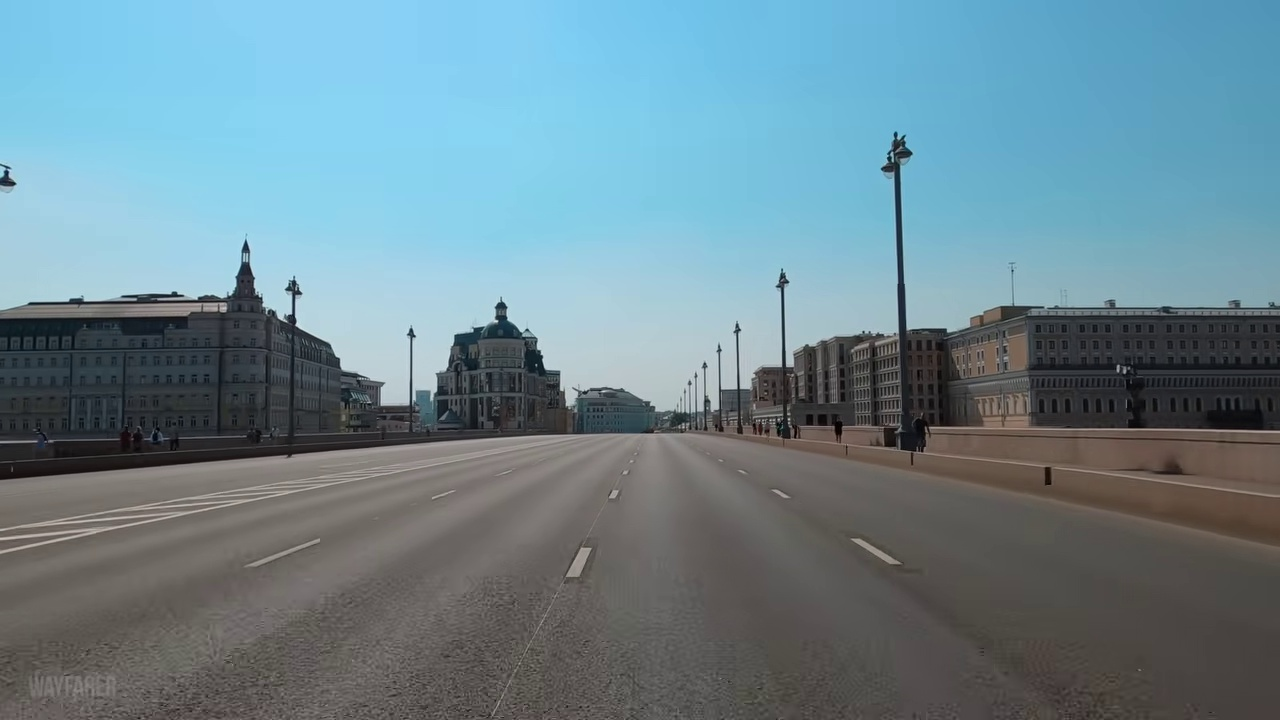apagada: (878, 136, 916, 179), (490, 298, 513, 326)
